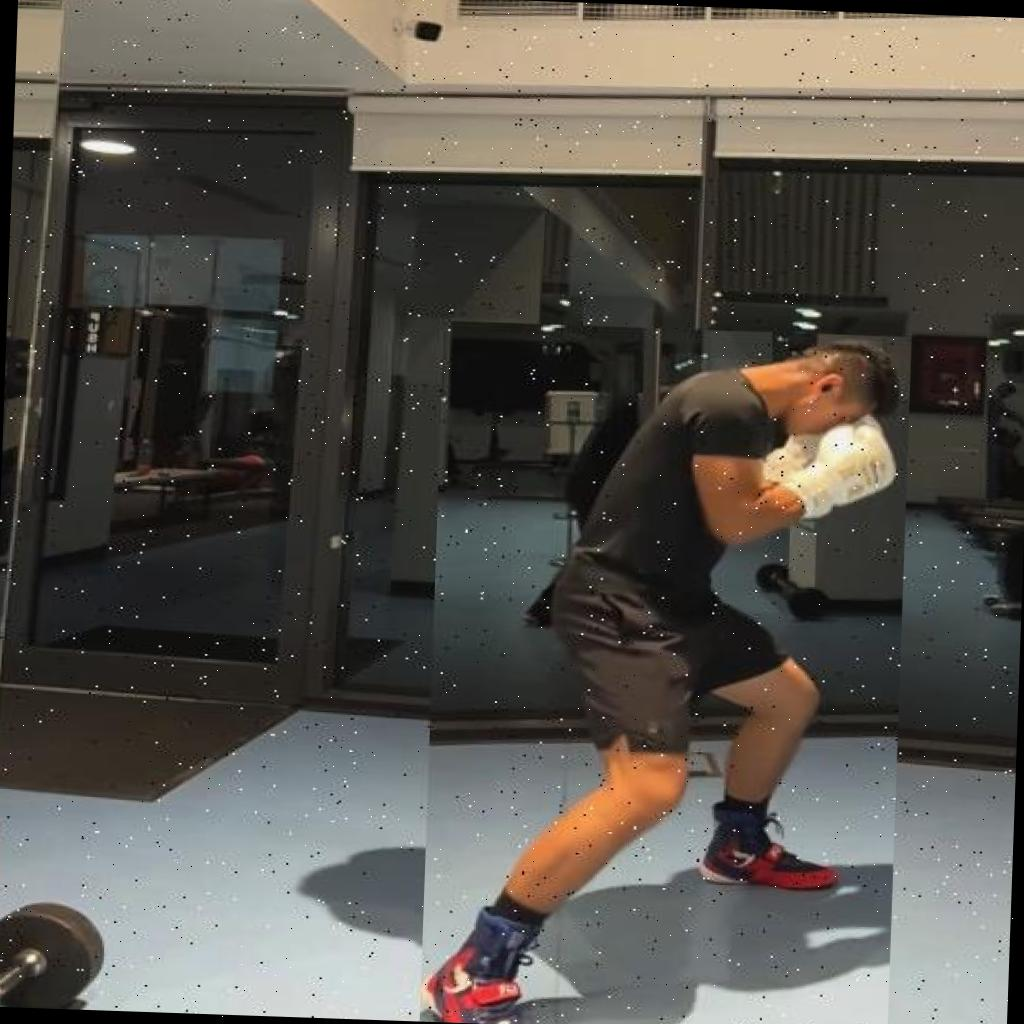no punch: (419, 319, 908, 1024)
